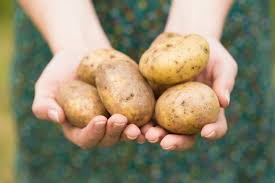potato: (97, 58, 150, 121), (158, 83, 226, 128), (142, 37, 212, 75)
